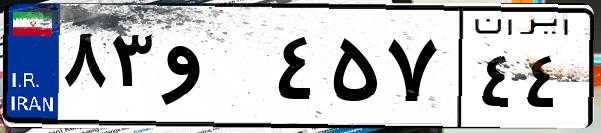3: (110, 28, 158, 98)
4: (270, 28, 330, 110), (475, 38, 525, 113), (525, 38, 570, 115)
5: (330, 28, 385, 110)
7: (385, 28, 445, 110)
8: (57, 26, 110, 100)
و: (158, 20, 270, 120)
